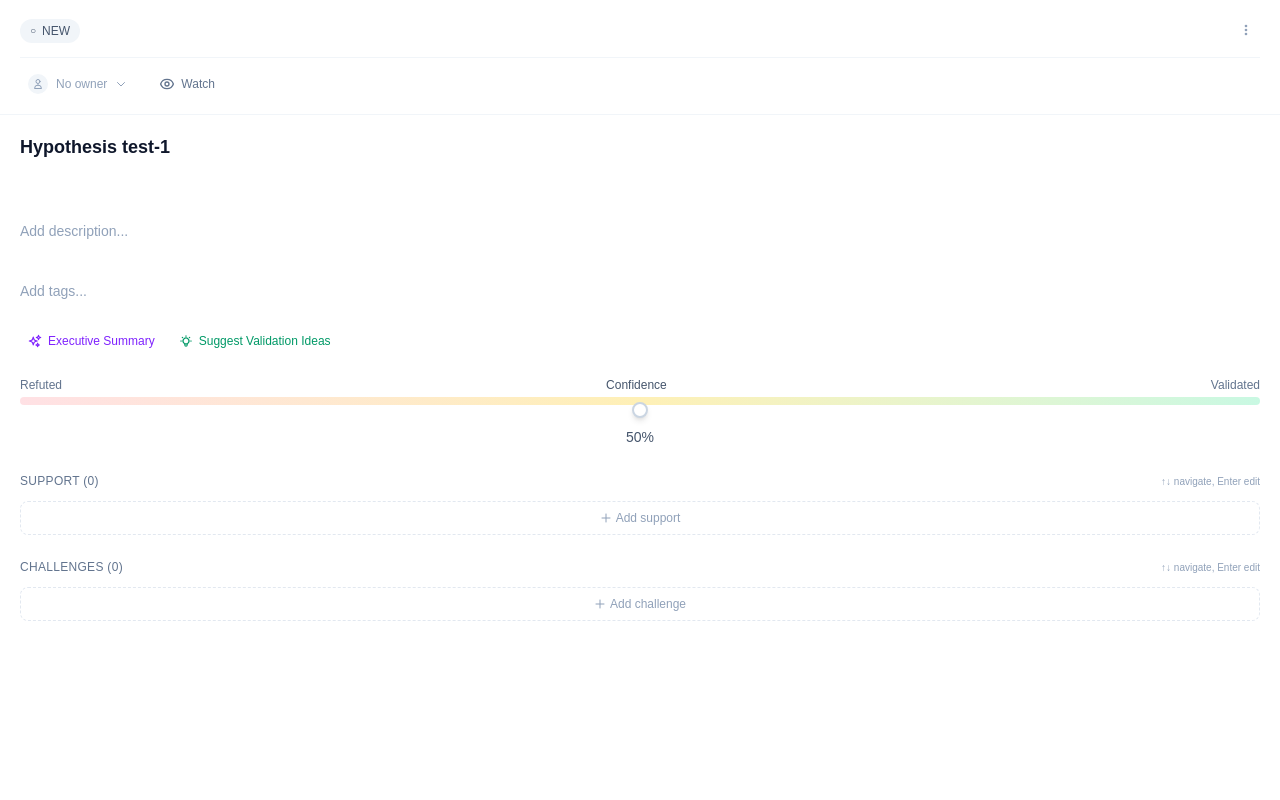
it: DetailPane › Archive Functionality › shows Archive option in actions menu for existing hypothesis
This screenshot has width=1280, height=800.
Open the actions menu
Click the button named "More actions" at (1246, 30), box [1232,16,1260,44]
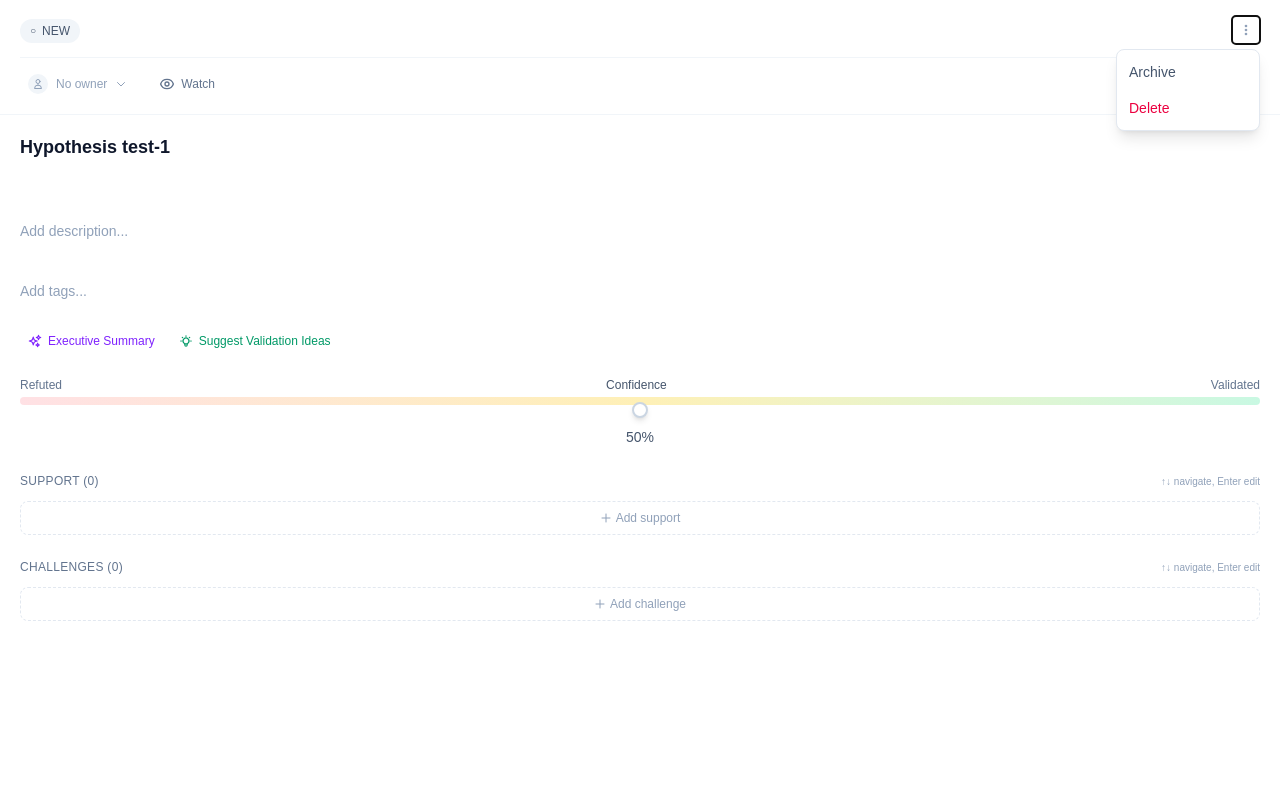
Check: the button "Archive" is shown, box [1117,54,1259,90]
